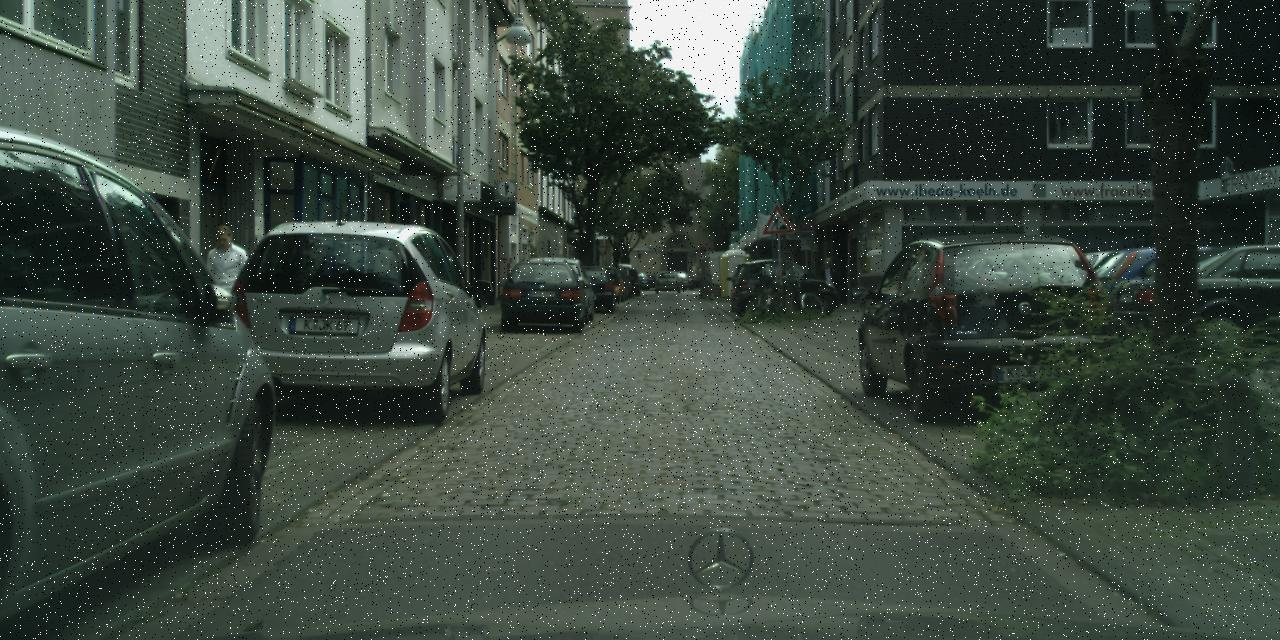ped: (200, 225, 259, 370), (818, 256, 838, 306), (689, 262, 698, 286)
